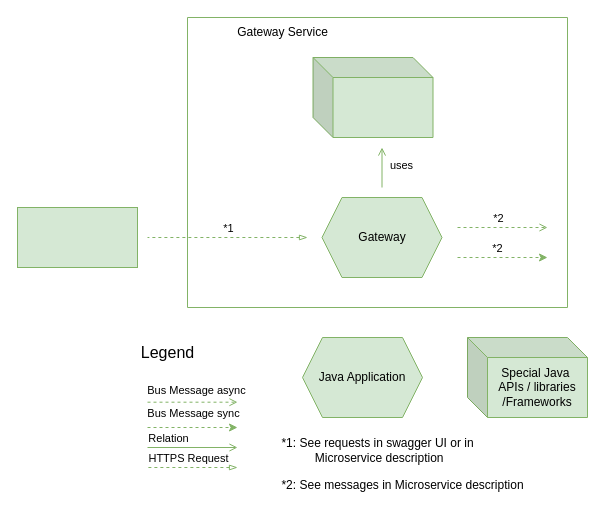
Image size: 605x518. Some labels were removed from this diagram. The shapes that lost their labels are listed below. From the top down, each one's centre as x and y in pixels, then its label:
At (372,97): "Micronaut Framework".
At (77,237): "Frontend".
